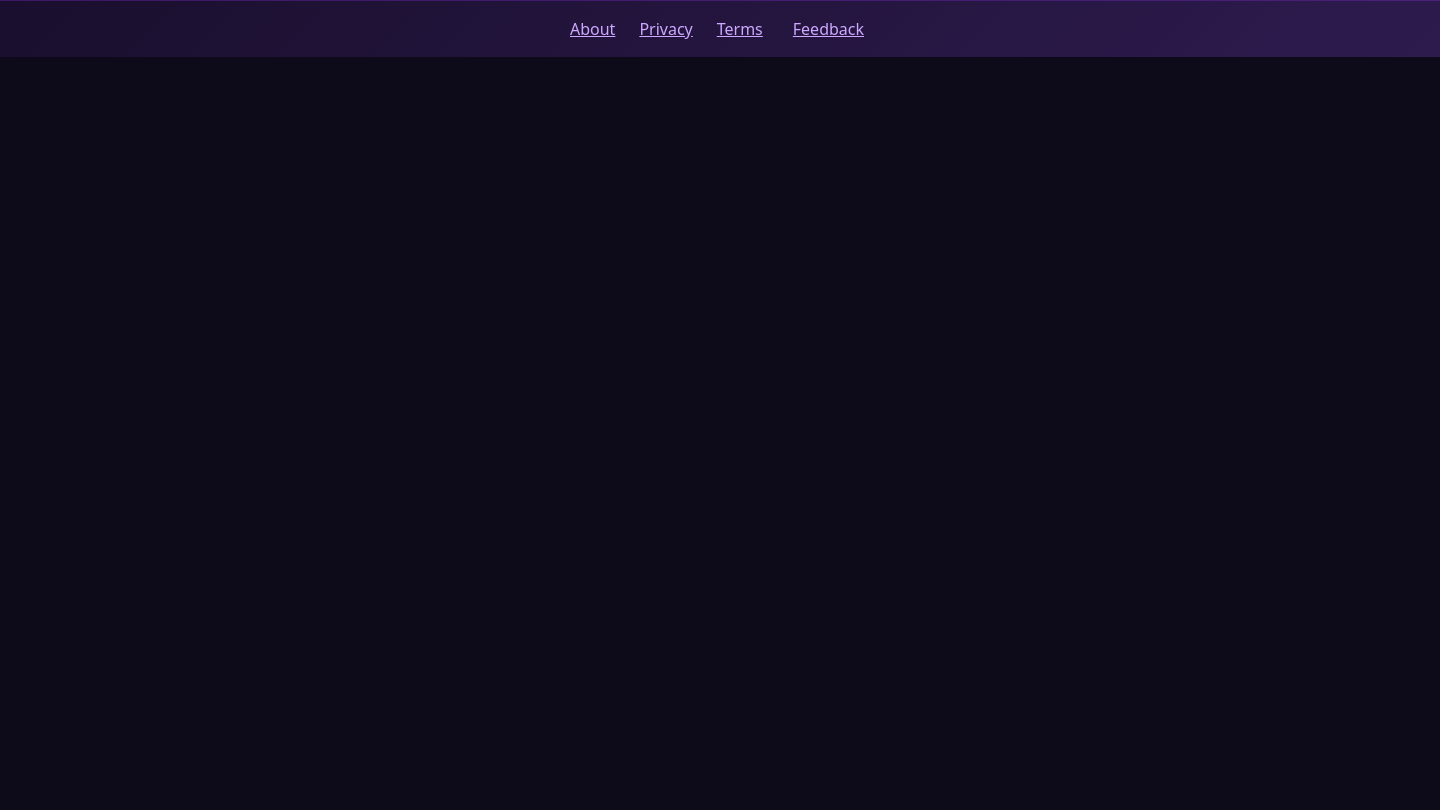
Scenario: SiteFeedback › closes the panel from Close, Escape, and the backdrop
Click the button "Feedback" at (828, 29), box [787,17,870,41]
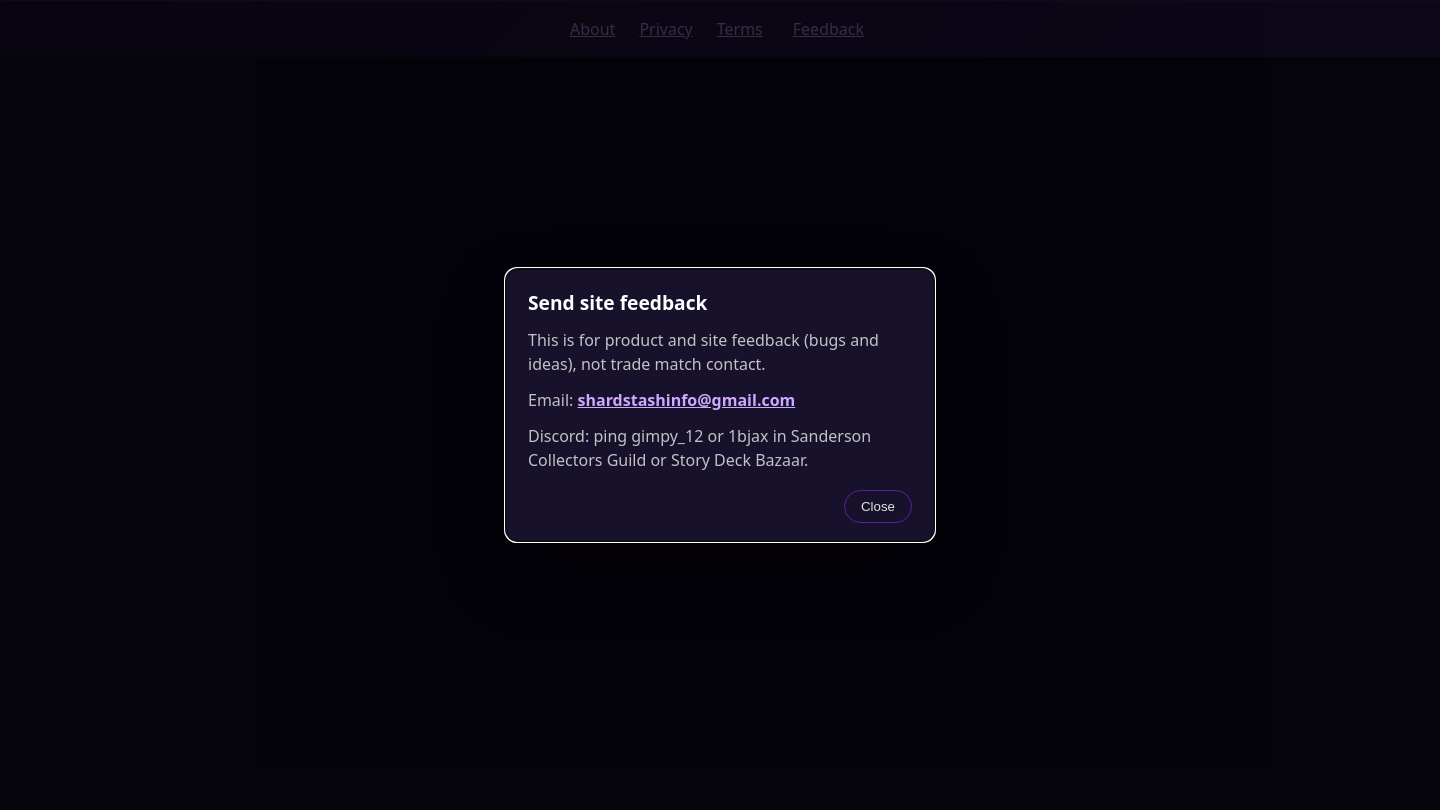
Click the button "Close" at (878, 506), box [844,490,912,523]
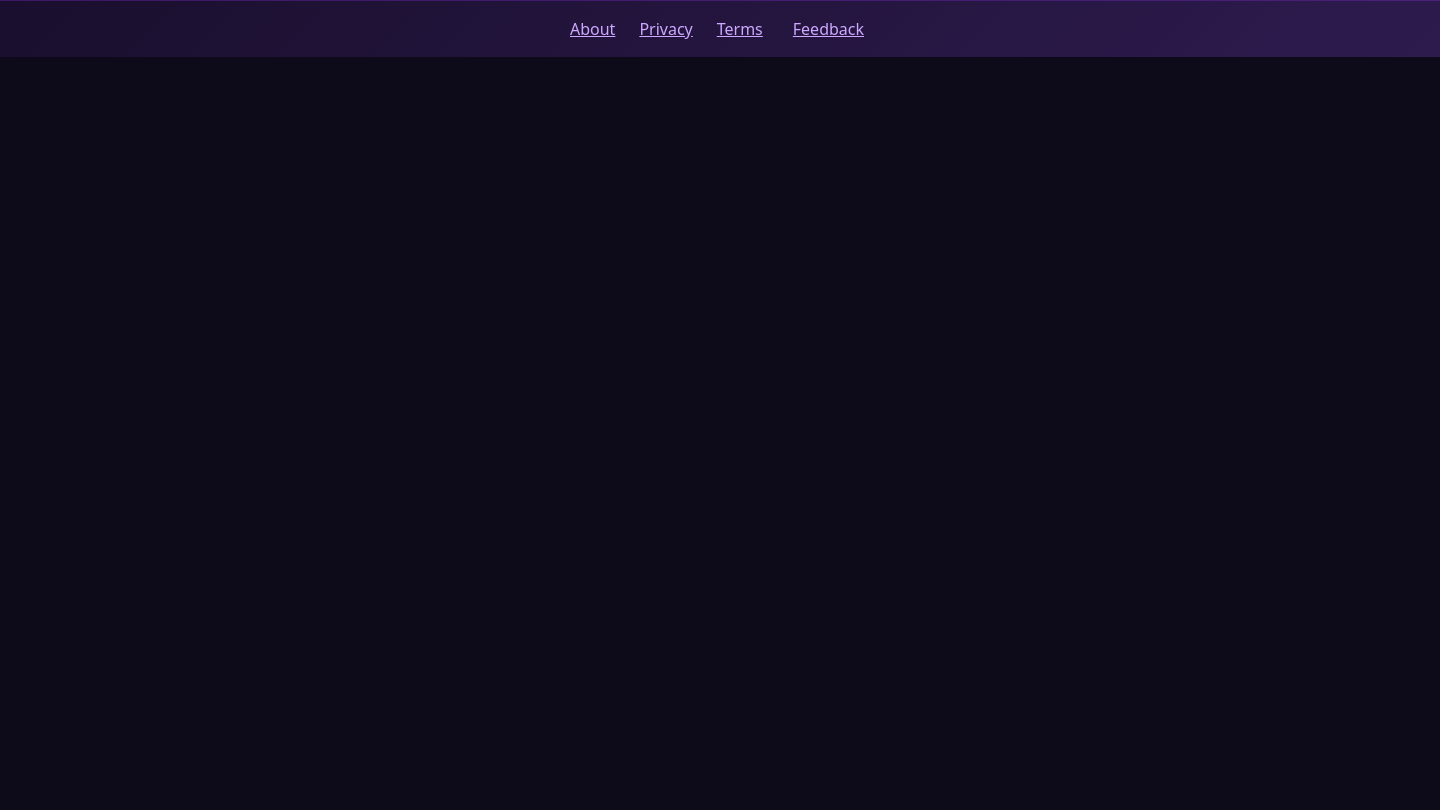
Now the heading "Send site feedback" is gone
Click the button "Feedback" at (828, 29), box [787,17,870,41]
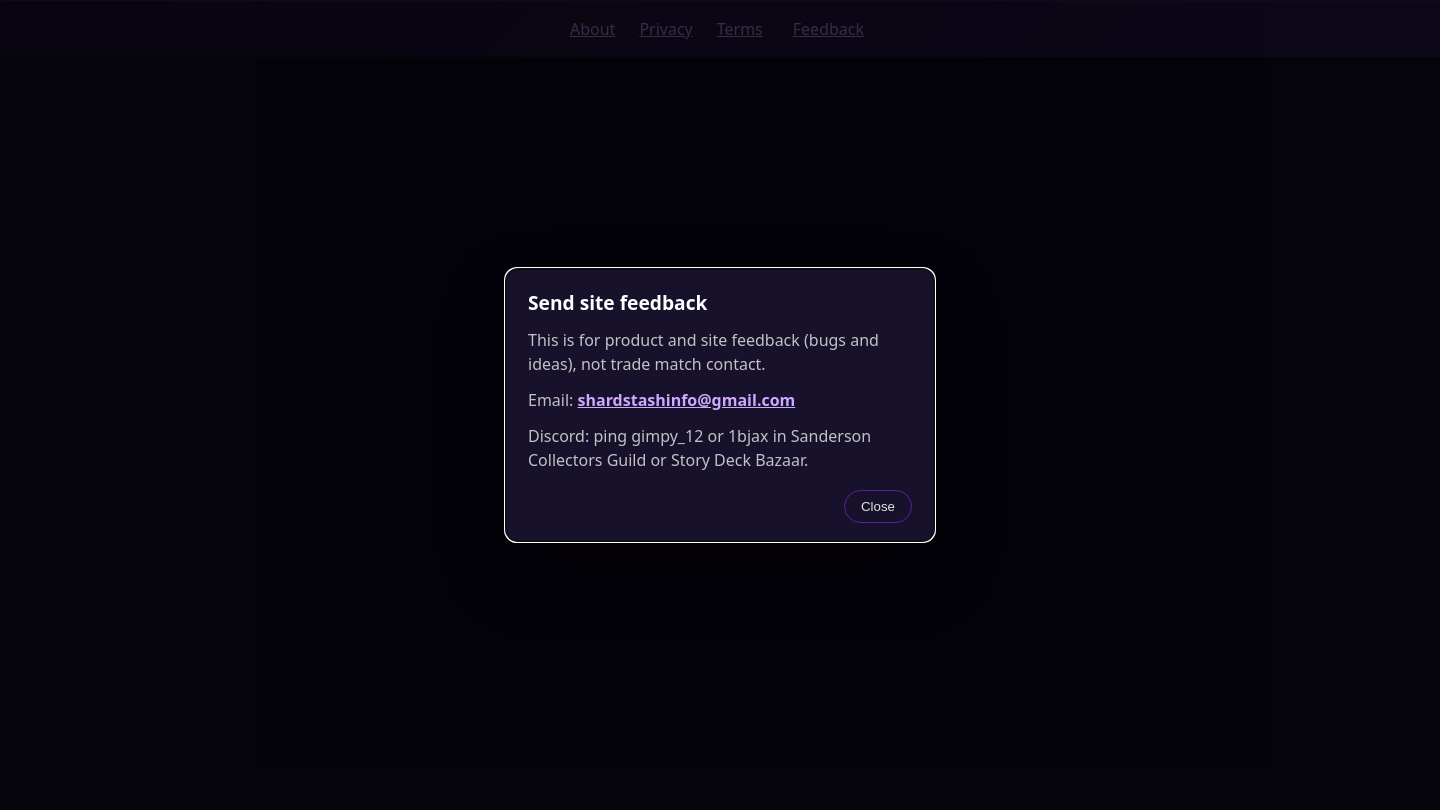
Press Escape
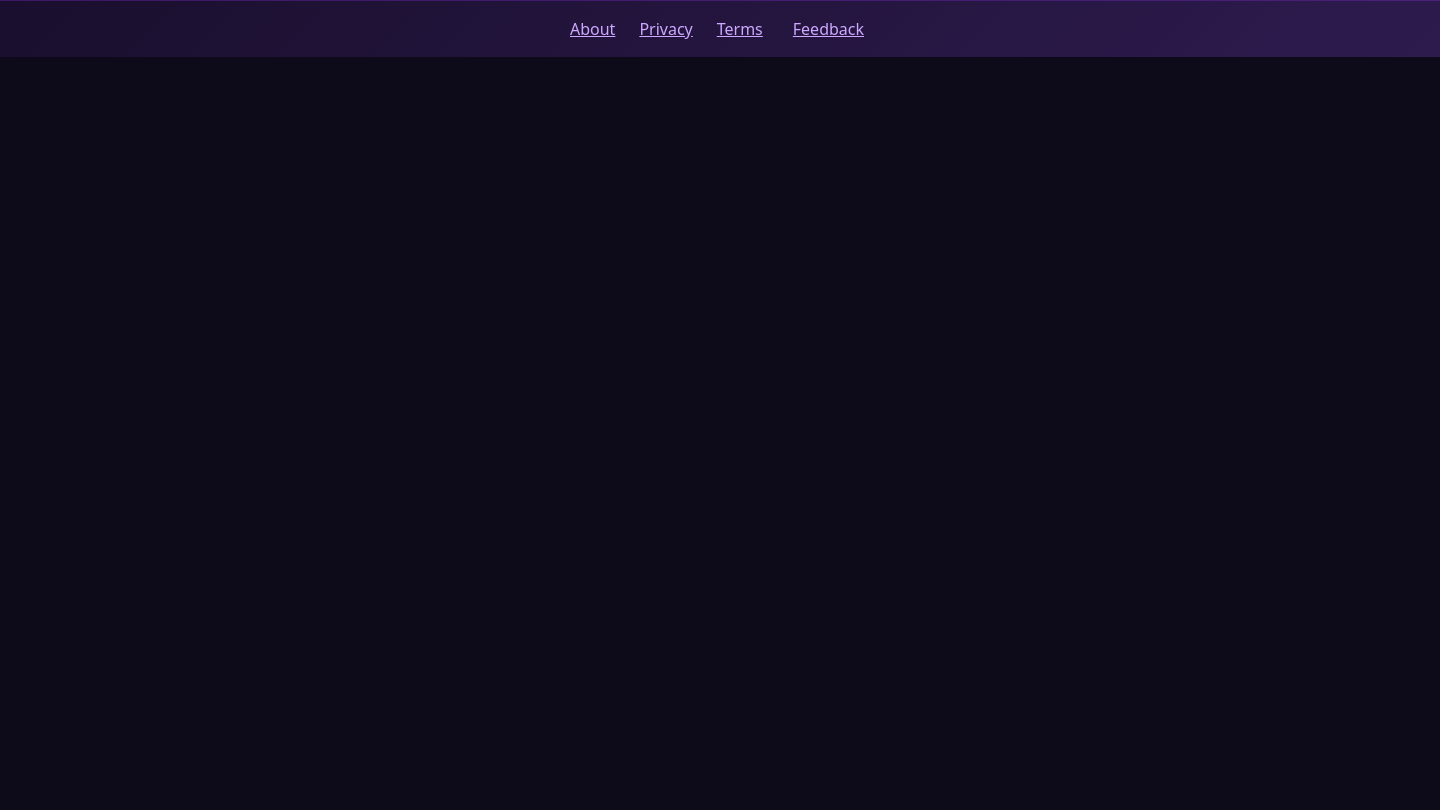
Now the heading "Send site feedback" is gone
Click the button "Feedback" at (828, 29), box [787,17,870,41]
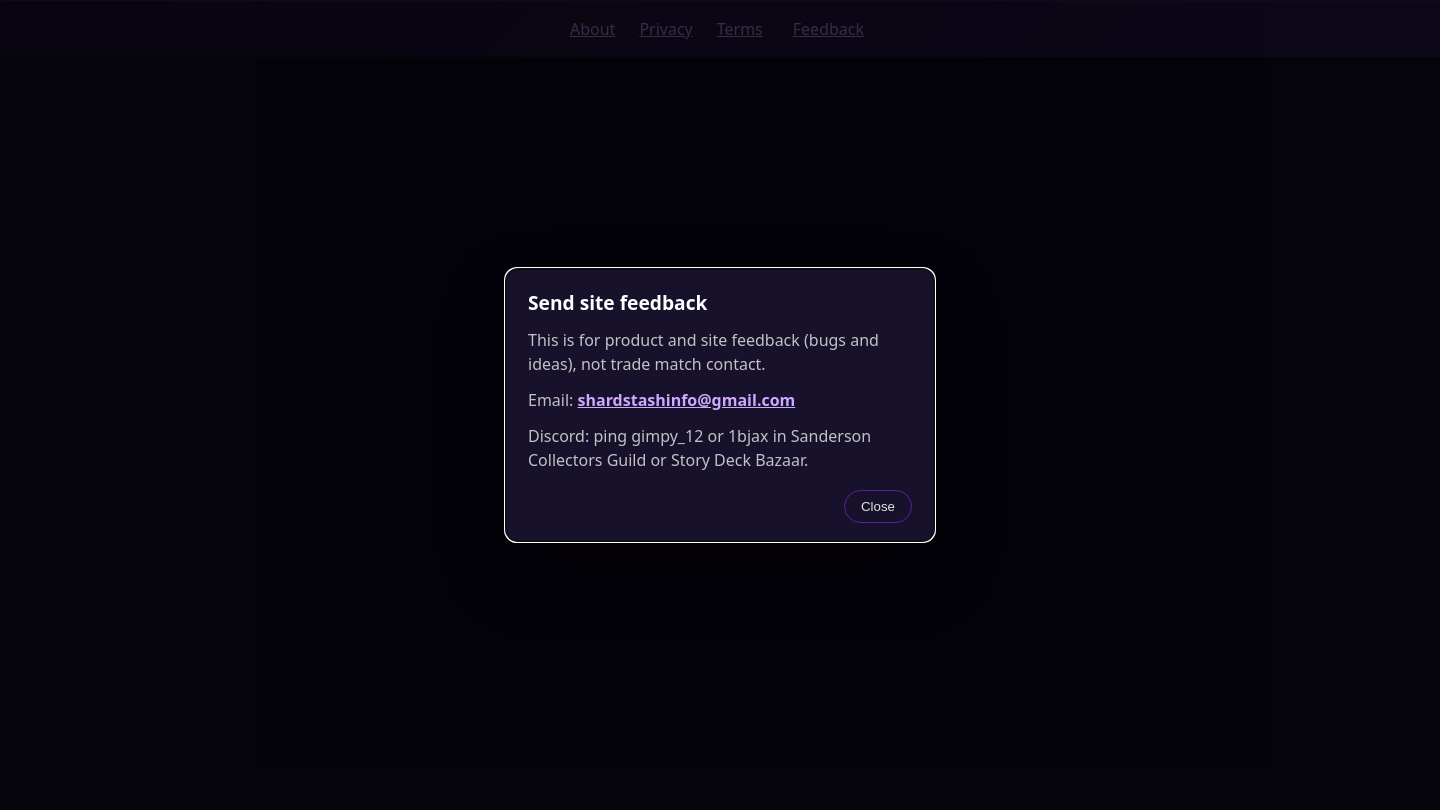
Click the element with class "site-feedback-modal__backdrop" at (86, 405), box [0,0,1439,809]
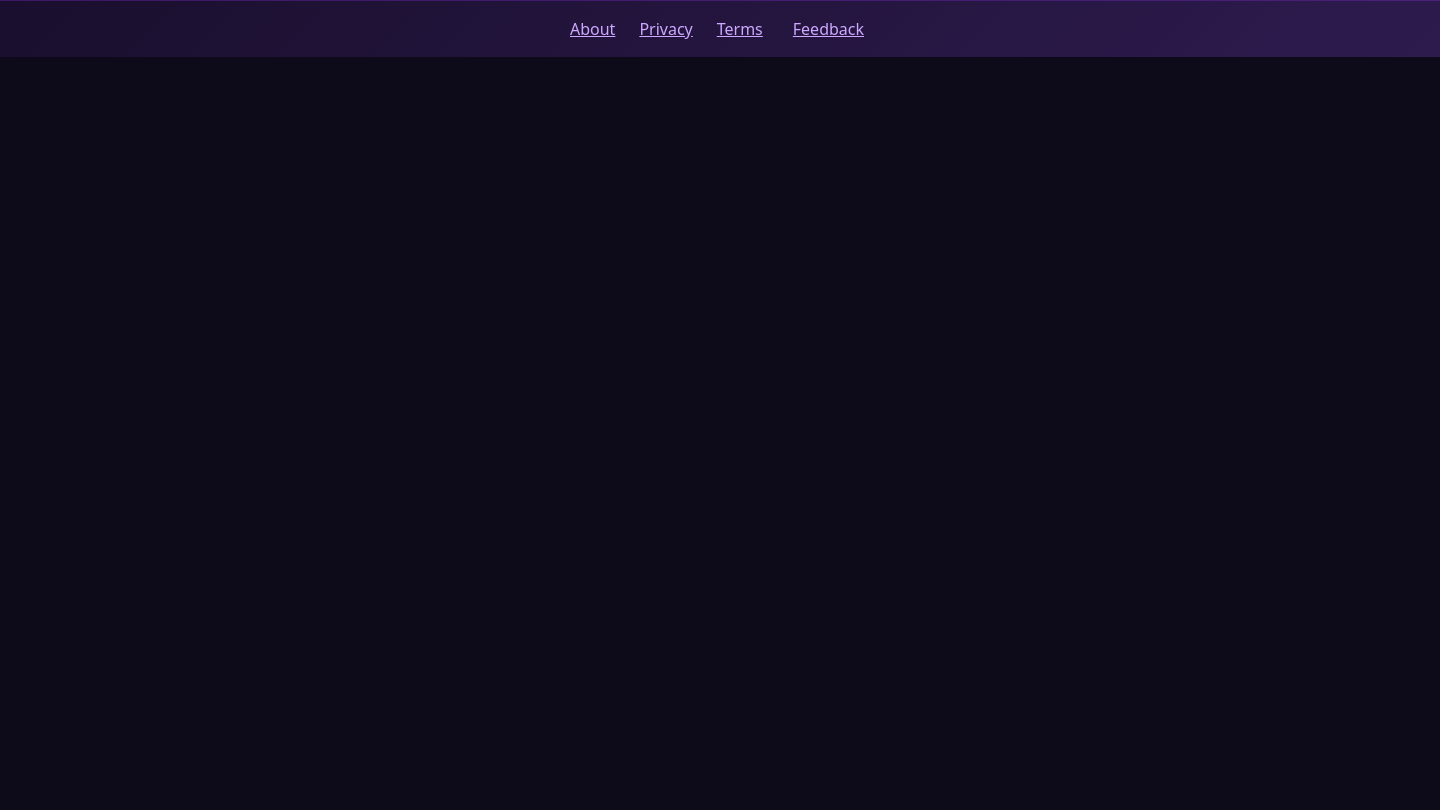
Now the heading "Send site feedback" is gone
